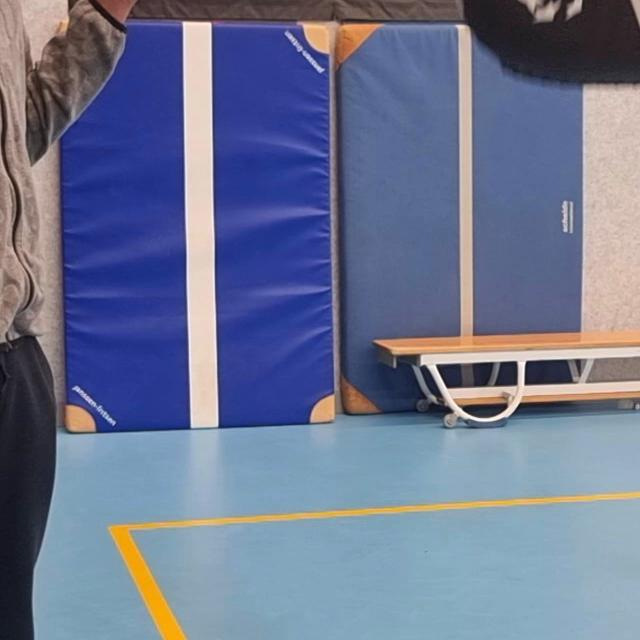paddle: (457, 0, 640, 93)
